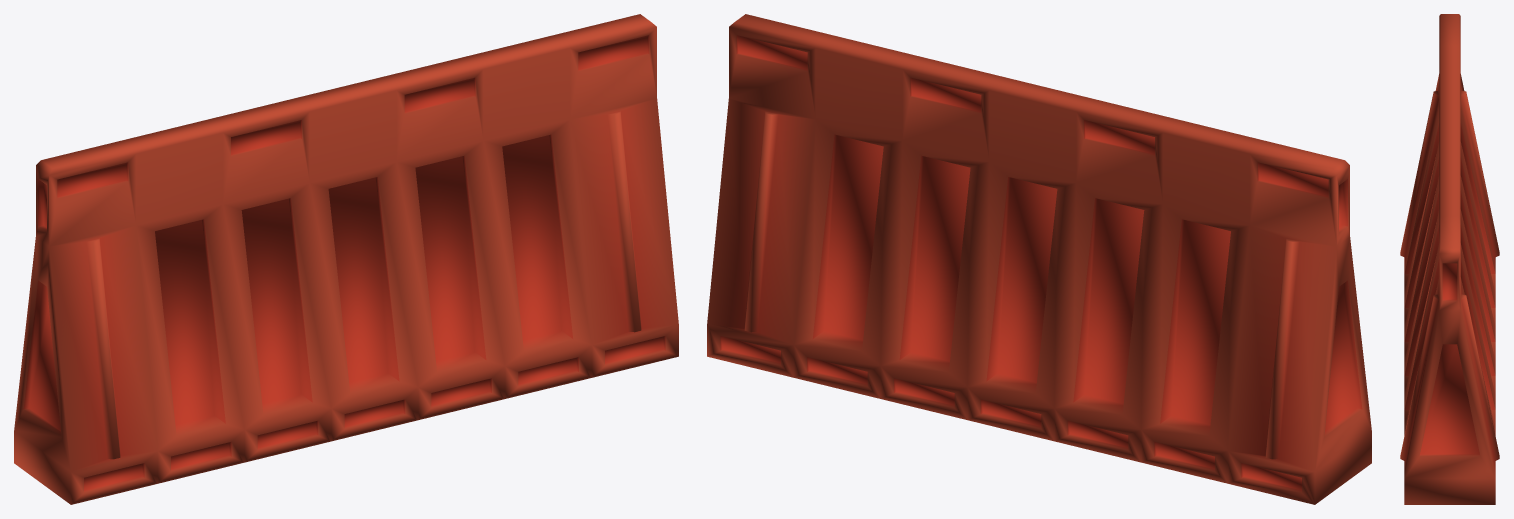
The model's file is furnishings-barriers-plasticbarrier_v1.glb.
3 renders of one model, left to right at view 1: azimuth 30°, elevation 25°; view 2: azimuth 150°, elevation 25°; view 3: azimuth 270°, elevation 25°, orthographic. The views are drawn at different scales.
Parts seen in each view (by area): view 1: PlasticBarrier.001; view 2: PlasticBarrier.001; view 3: PlasticBarrier.001.
Part boxes in pixels (x1,y1,x2,y2): PlasticBarrier.001: (14, 14, 678, 504); PlasticBarrier.001: (707, 14, 1371, 504); PlasticBarrier.001: (1400, 14, 1499, 504).
Bounding box in the file's own units: 1.78 × 0.8906 × 0.3151.
